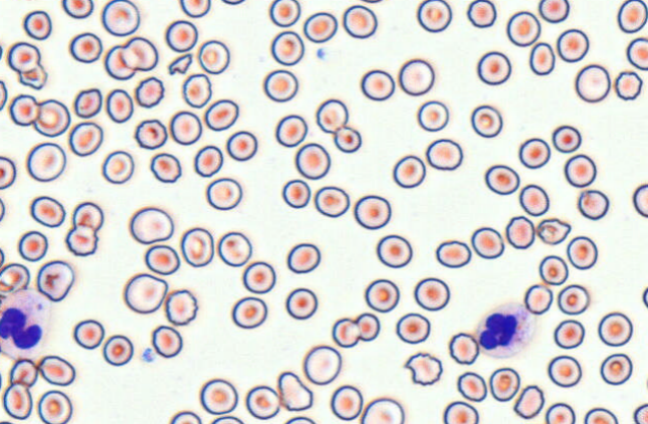GRAN: (0, 287, 52, 357), (478, 306, 535, 358)
PLT: (316, 46, 332, 63), (140, 347, 155, 362)
RBC: (123, 272, 168, 314), (129, 206, 174, 244), (302, 344, 342, 385), (26, 141, 66, 182), (36, 259, 74, 302), (32, 98, 70, 137), (276, 371, 313, 411), (574, 63, 611, 102), (199, 378, 238, 414), (101, 0, 140, 36), (398, 58, 434, 96), (180, 227, 214, 267), (294, 142, 330, 179), (120, 36, 158, 71), (353, 194, 391, 229), (597, 311, 633, 346), (164, 288, 198, 325), (413, 277, 450, 311), (245, 384, 280, 419), (68, 121, 103, 156), (476, 50, 511, 85), (217, 231, 252, 266), (329, 384, 363, 420), (506, 10, 540, 46), (376, 234, 412, 268), (205, 177, 242, 210), (37, 354, 75, 386), (425, 138, 463, 170), (37, 389, 72, 423), (364, 278, 399, 312), (342, 4, 377, 38), (263, 68, 298, 102), (270, 30, 304, 65), (360, 396, 404, 423), (231, 296, 267, 329), (392, 154, 426, 188), (315, 98, 348, 133), (547, 354, 582, 387), (360, 68, 395, 101), (169, 110, 202, 145), (204, 98, 239, 131), (104, 44, 136, 80), (29, 195, 65, 227), (416, 0, 452, 32), (101, 150, 134, 184), (556, 28, 589, 62), (470, 226, 504, 259), (242, 260, 276, 293), (488, 367, 520, 402), (395, 312, 430, 344), (314, 185, 349, 217), (197, 39, 229, 74), (144, 244, 180, 275), (2, 383, 32, 420), (165, 19, 198, 52), (564, 153, 596, 187), (303, 11, 337, 43), (470, 104, 502, 138), (181, 73, 212, 108), (484, 164, 519, 195), (7, 41, 40, 73), (69, 31, 102, 63), (599, 353, 632, 385), (275, 114, 307, 147), (416, 100, 449, 132), (151, 324, 182, 358), (566, 235, 597, 269), (286, 242, 320, 273), (435, 239, 471, 268), (285, 287, 317, 319), (518, 137, 550, 169), (65, 225, 98, 256), (448, 332, 479, 365), (518, 183, 549, 216), (134, 118, 167, 149), (505, 215, 535, 249), (72, 318, 104, 349), (102, 334, 133, 366), (557, 284, 589, 315), (149, 152, 181, 183), (577, 189, 609, 220), (9, 93, 39, 126), (617, 0, 647, 33), (193, 144, 223, 177), (105, 88, 133, 123), (72, 201, 103, 232), (456, 371, 487, 402), (17, 230, 48, 261), (226, 130, 257, 161), (0, 262, 30, 294), (523, 283, 553, 314), (538, 254, 568, 285), (553, 319, 584, 349), (134, 76, 164, 107), (22, 9, 51, 40), (73, 87, 102, 118), (529, 41, 555, 75), (331, 317, 360, 347), (281, 178, 310, 208), (551, 124, 581, 153), (268, 0, 300, 27), (442, 400, 479, 423), (9, 358, 38, 387), (614, 70, 642, 100), (466, 0, 496, 28), (333, 125, 361, 153), (18, 63, 47, 90), (354, 312, 380, 341), (626, 36, 647, 70), (538, 0, 569, 23), (545, 402, 575, 423), (61, 0, 93, 18), (583, 407, 618, 423), (179, 0, 210, 18), (0, 155, 16, 189), (632, 183, 647, 217), (169, 410, 202, 423), (633, 403, 647, 423), (210, 415, 244, 423), (283, 415, 316, 423), (0, 79, 7, 111), (642, 286, 648, 308), (0, 197, 5, 222), (220, 0, 245, 5), (0, 247, 5, 268), (358, 0, 384, 3), (0, 42, 3, 63)
Schistocyte: (404, 353, 442, 386), (513, 385, 545, 419), (535, 218, 571, 245), (166, 54, 193, 76)
